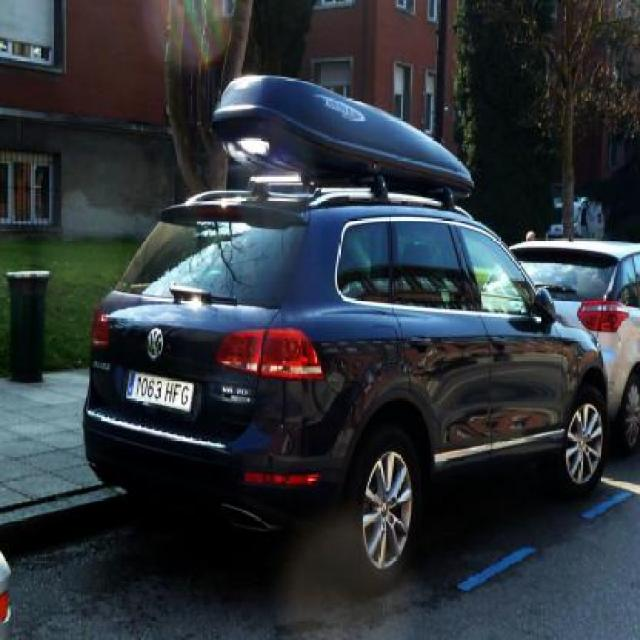License-Plates: (125, 367, 196, 417)
